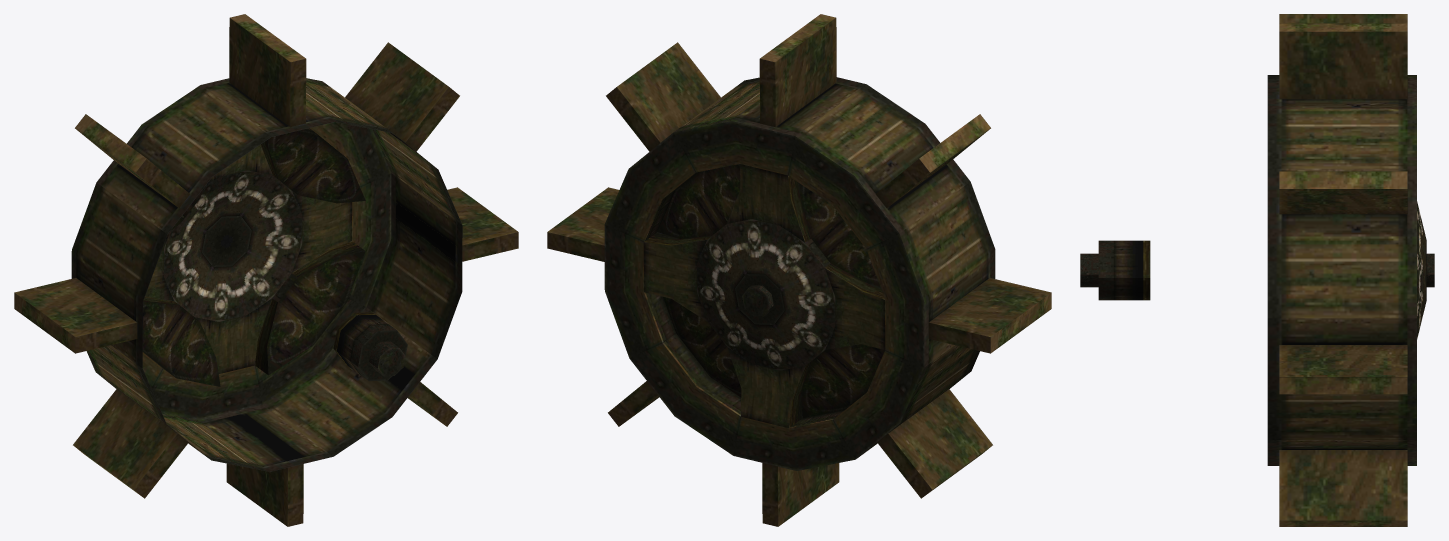
The model's file is water_wheel.dae.
The picture shows the model from 3 angles, left to right: view 1: azimuth 30°, elevation 25°; view 2: azimuth 150°, elevation 25°; view 3: azimuth 270°, elevation 25°; orthographic projection. The views are drawn at different scales.
Parts seen in each view (by area): view 1: suisha; view 2: suisha; view 3: suisha.
Part boxes in pixels (left/top/right/bottom): suisha: left=14, top=14, right=518, bottom=526; suisha: left=547, top=14, right=1051, bottom=526; suisha: left=1080, top=14, right=1434, bottom=526.
Size of the model in its own units: 2.2 by 1.45 by 2.2.
Materials: 1 (1 with a texture image).
